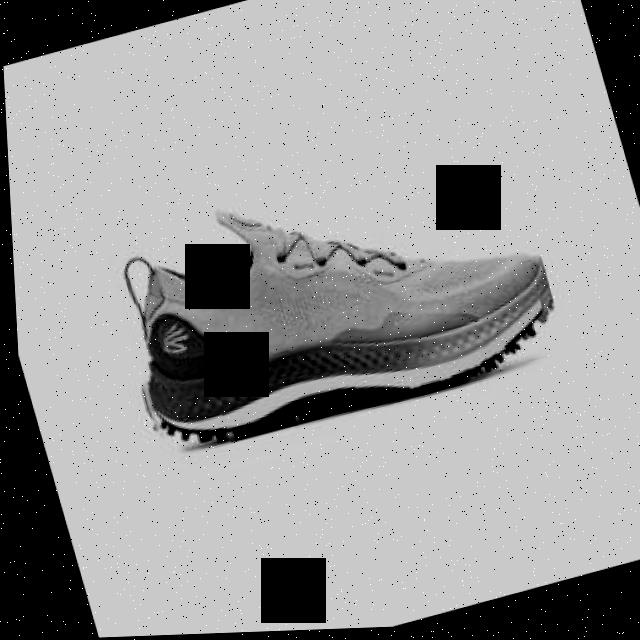shoe: (89, 135, 568, 465)
